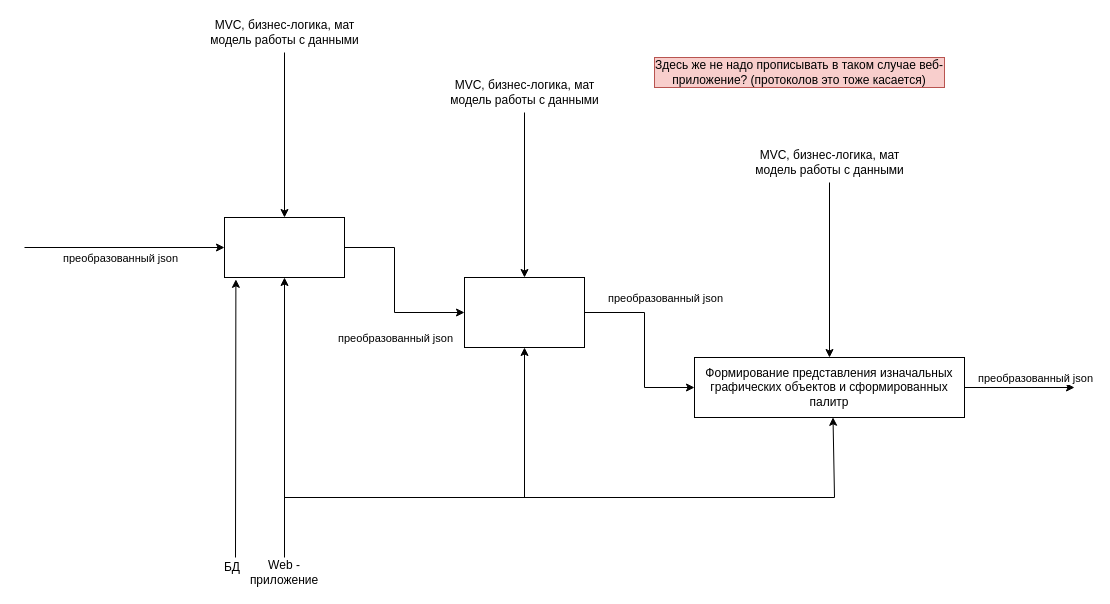
The diagram is 1110 pixels wide and 604 high, and some of its shapes have lost their labels. The shapes that lost their labels are listed below. From the top down, each one's centre as x and y in pixels, then its label:
At (284,247): "Замена текстового формата описания цвета на графический".
At (524,312): "Формирование палитры для каждого элемента выборки".
